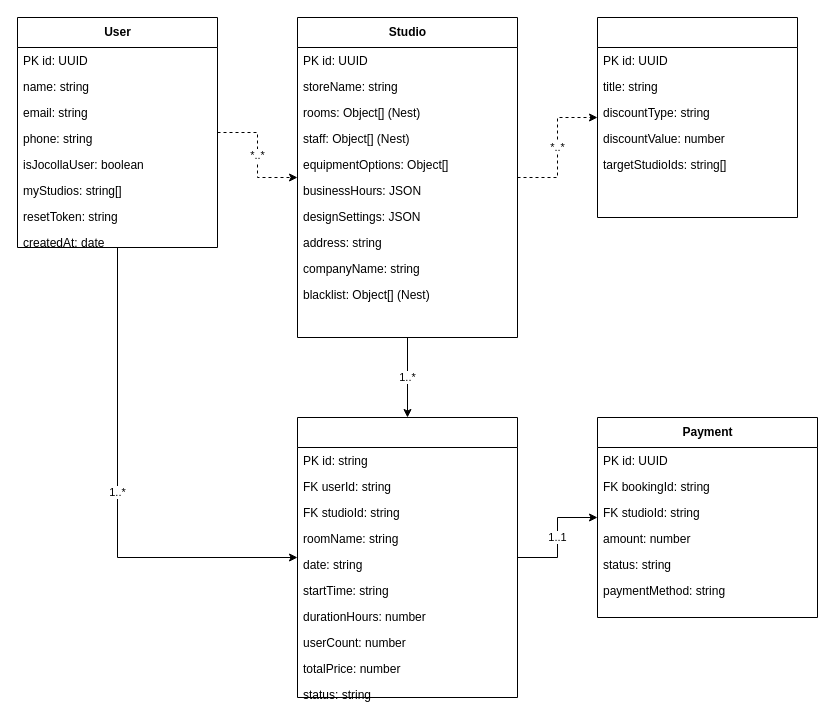
This 835x725 diagram has some shape labels left out. Each missing label, with the box of its shape:
Booking: (296, 416, 518, 698)
Campaign: (596, 16, 798, 218)
